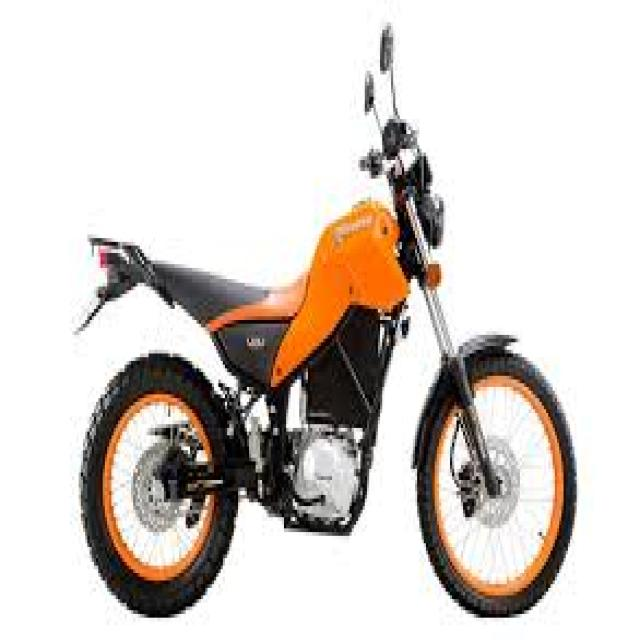bodaboda: (44, 22, 594, 627)
